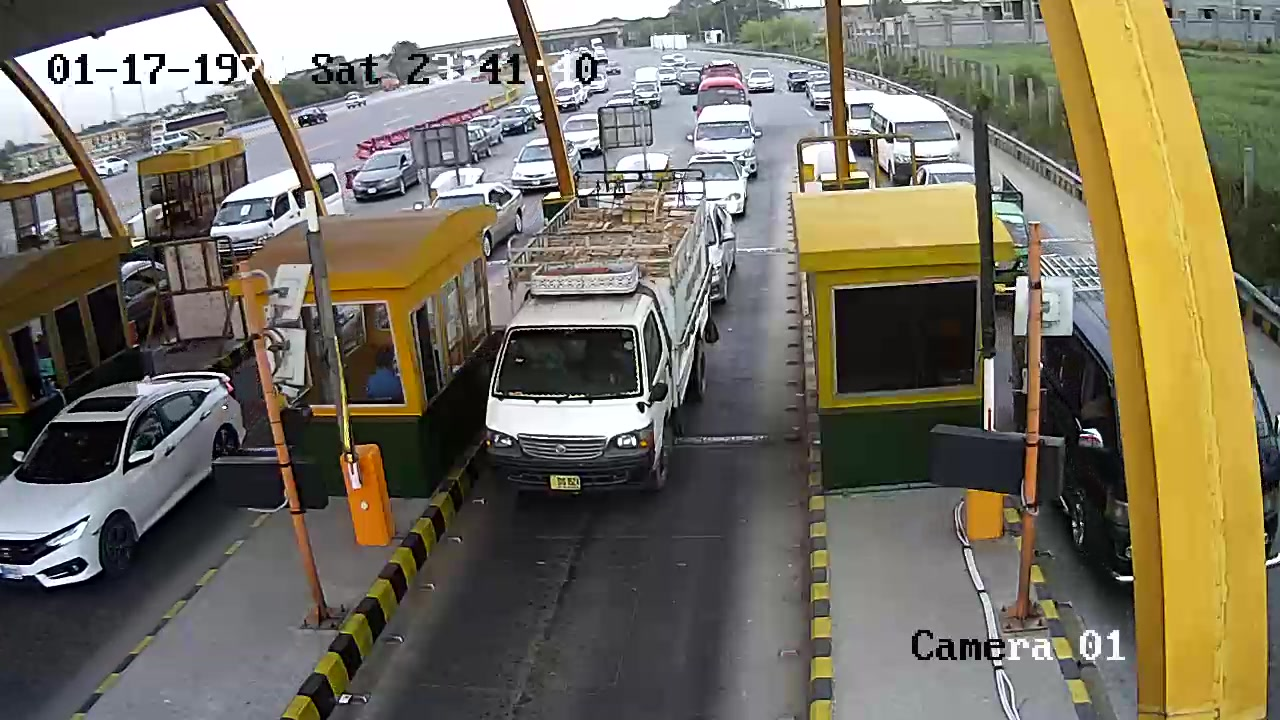F3: (477, 157, 723, 523)
